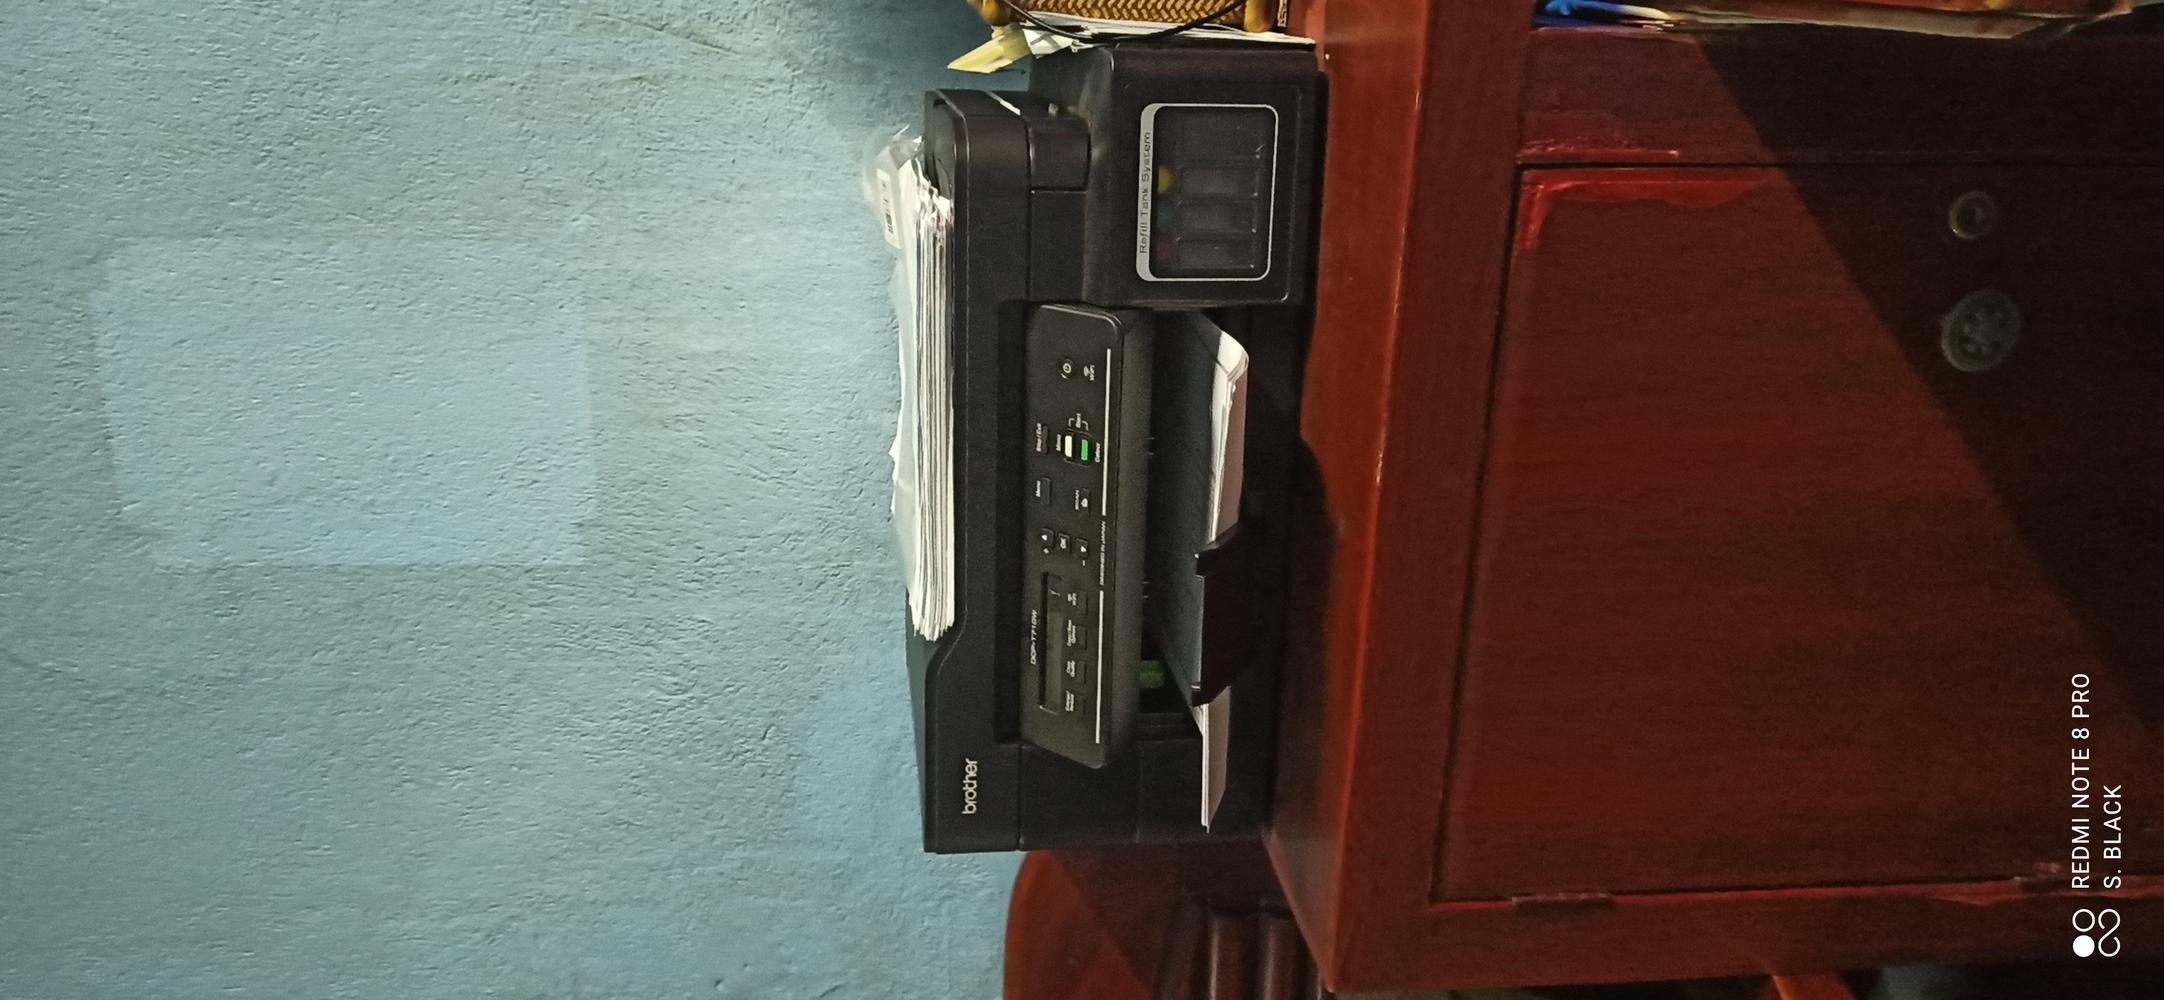Undefined Object: (1372, 40, 2164, 956), (904, 33, 1285, 833)
